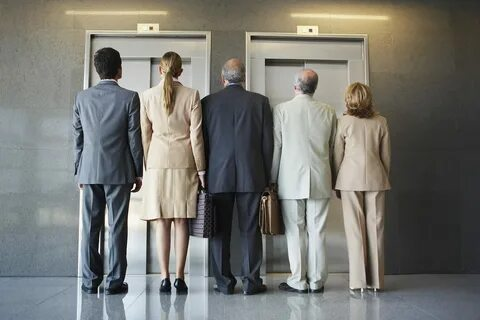awake: (71, 46, 142, 296), (200, 57, 272, 297), (139, 50, 208, 296), (270, 67, 339, 295), (333, 81, 393, 296)
